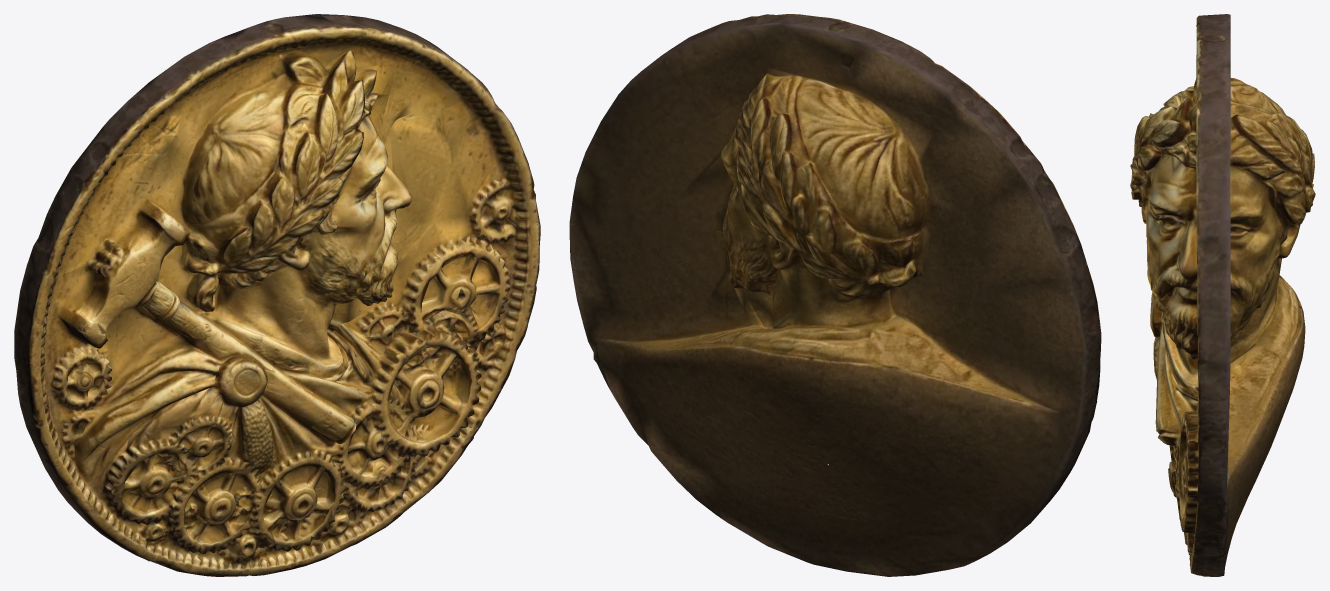
Rendered from hero-builder.glb.
3 views of the same model, side by side, from view 1: azimuth 30°, elevation 25°; view 2: azimuth 150°, elevation 25°; view 3: azimuth 270°, elevation 25° (orthographic). The views are drawn at different scales.
Parts seen in each view (by area): view 1: tripo_node_43df23f5-8dbc-451f-a690-c2df9b102add; view 2: tripo_node_43df23f5-8dbc-451f-a690-c2df9b102add; view 3: tripo_node_43df23f5-8dbc-451f-a690-c2df9b102add.
Part boxes in pixels (<box>): tripo_node_43df23f5-8dbc-451f-a690-c2df9b102add: <box>14,14,540,576</box>; tripo_node_43df23f5-8dbc-451f-a690-c2df9b102add: <box>569,14,1101,576</box>; tripo_node_43df23f5-8dbc-451f-a690-c2df9b102add: <box>1130,14,1315,576</box>.
Bounding box in the file's own units: 0.9992 × 0.9987 × 0.3288.
1 material, 1 textured.
